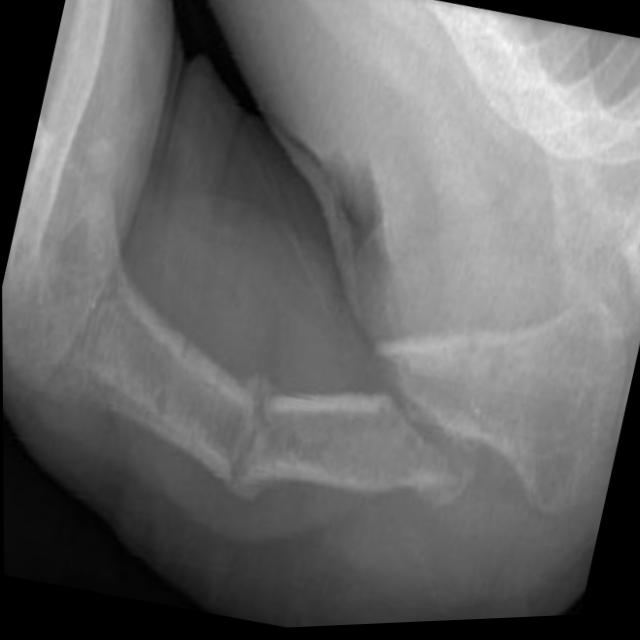fracture: (323, 301, 520, 522), (199, 334, 314, 545)
